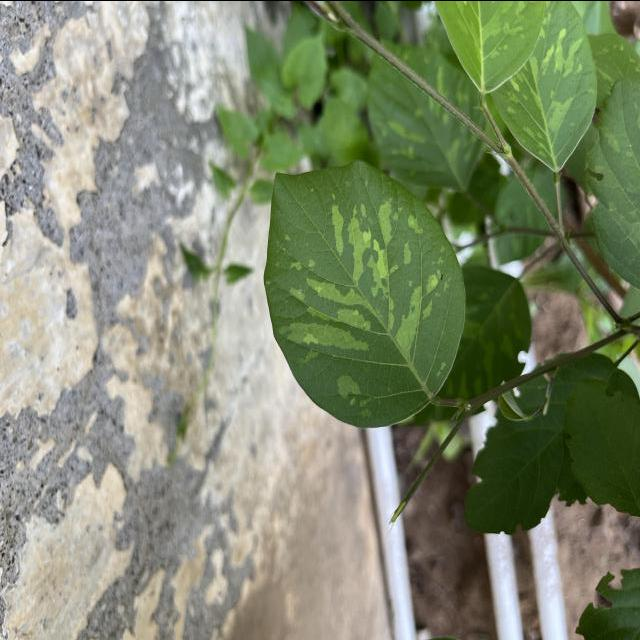Desmodium gangeticum: (260, 153, 468, 431)
